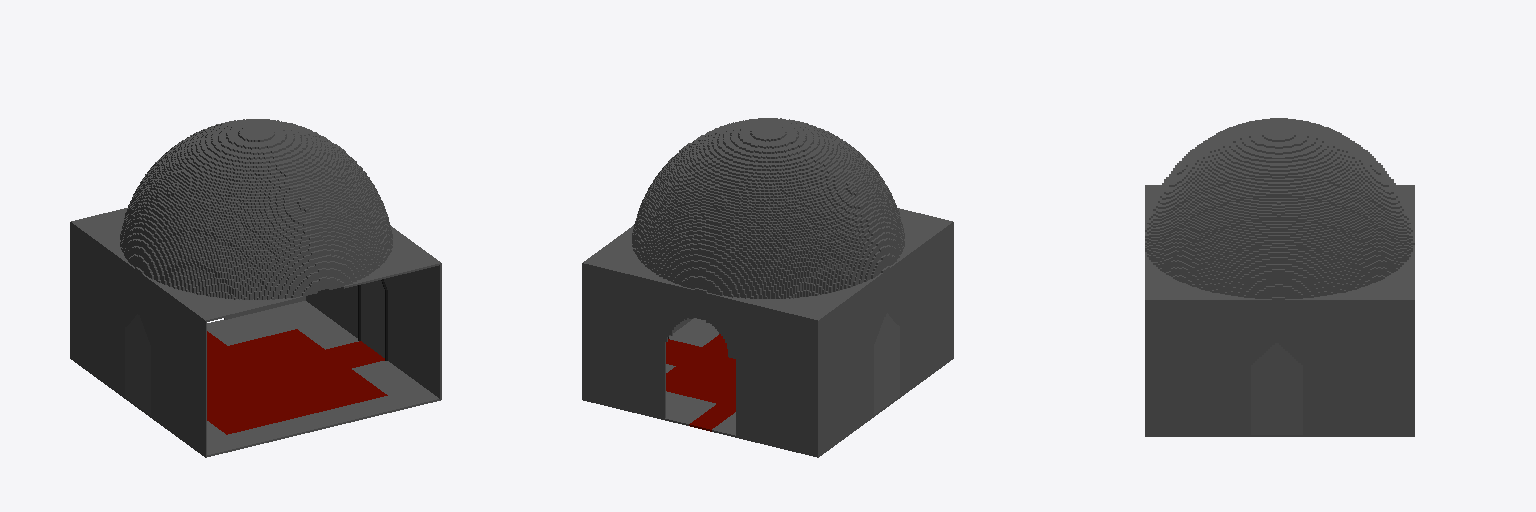
3 renders of one model, left to right at view 1: azimuth 30°, elevation 25°; view 2: azimuth 150°, elevation 25°; view 3: azimuth 270°, elevation 25°, orthographic.
Visible parts, largest first — view 1: object 1; view 2: object 1; view 3: object 1.
Part boxes in pixels (bbox=[...]): object 1: bbox=[70, 119, 441, 457]; object 1: bbox=[582, 118, 953, 457]; object 1: bbox=[1145, 118, 1414, 436].
Bounding box in the file's own units: 12.6 × 12.6 × 12.5.
Materials: 1 (1 with a texture image).